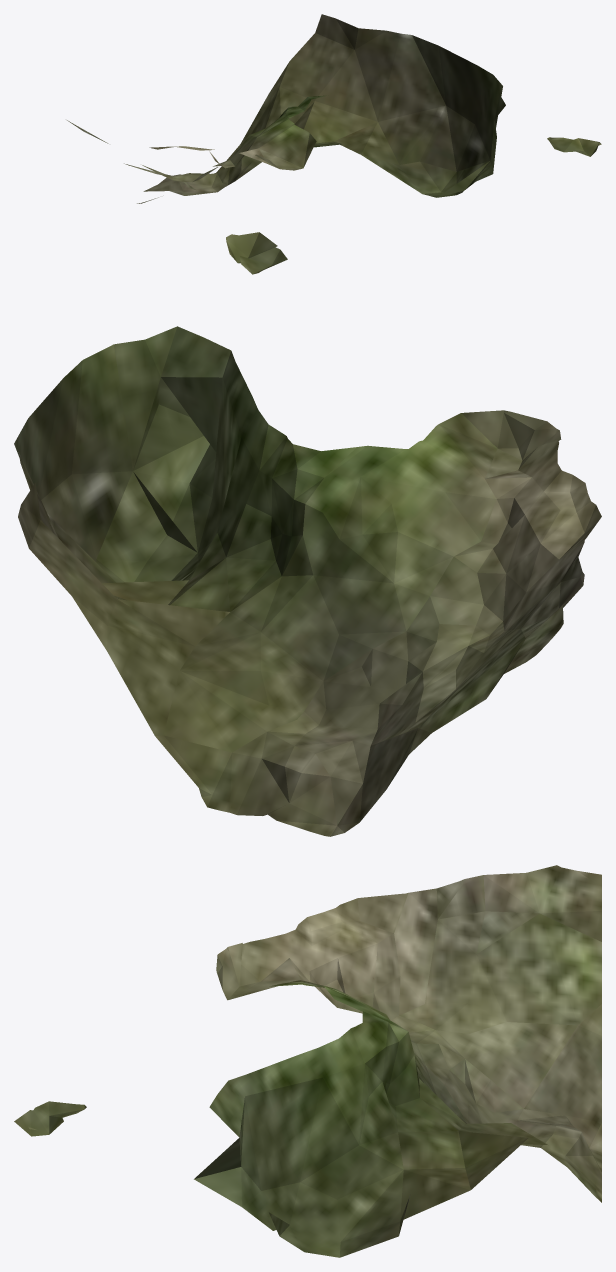
3 renders of one model, top to bottom at view 1: azimuth 30°, elevation 25°; view 2: azimuth 150°, elevation 25°; view 3: azimuth 270°, elevation 25°, orthographic. The views are drawn at different scales.
Size of the model in its own units: 3.03 by 1.09 by 2.84.
Materials: 1 (1 with a texture image).
